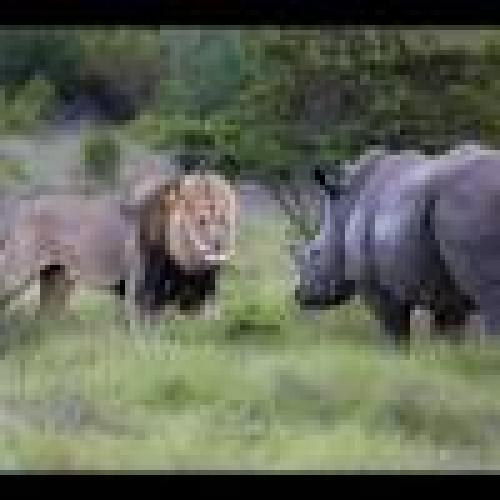lion-endangered: (0, 153, 246, 322)
rhino-endangered: (283, 139, 500, 345)
